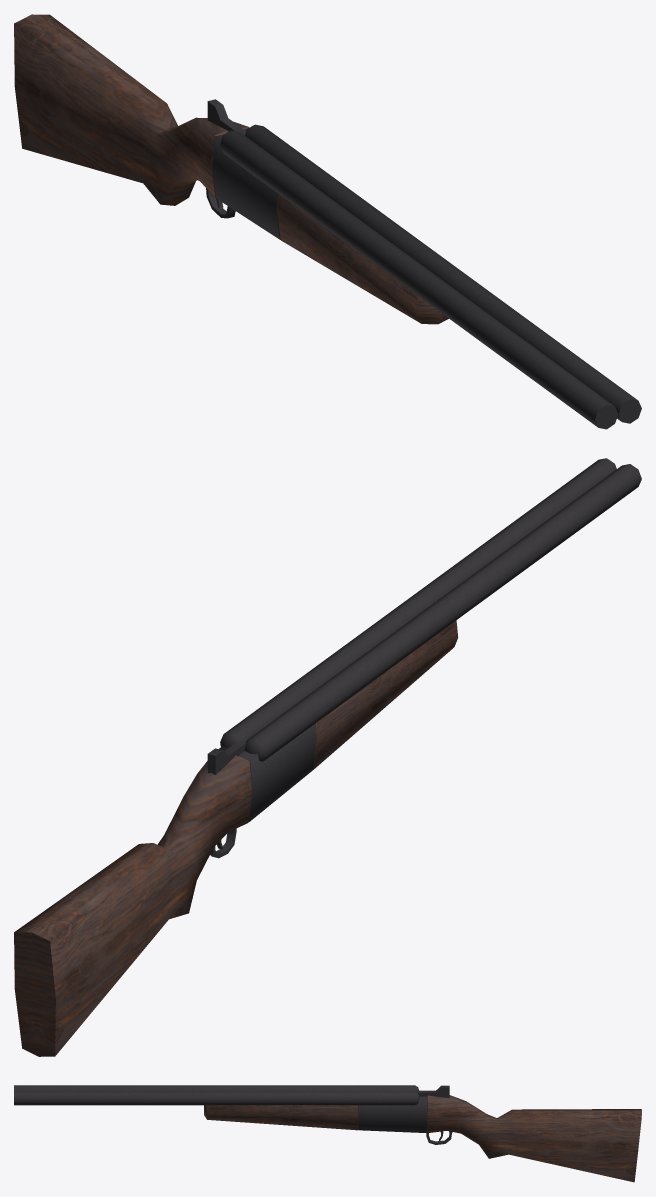
Rendered from 1208双管猎枪.FBX.
3 views of the same model, one above another, from view 1: azimuth 30°, elevation 25°; view 2: azimuth 150°, elevation 25°; view 3: azimuth 270°, elevation 25° (orthographic). The views are drawn at different scales.
Visible parts, largest first — view 1: 1208_DoubleBarrels; view 2: 1208_DoubleBarrels; view 3: 1208_DoubleBarrels.
Boxes of the visible parts, x1=… form: 1208_DoubleBarrels: x1=14, y1=14, x2=641, y2=429; 1208_DoubleBarrels: x1=14, y1=458, x2=641, y2=1056; 1208_DoubleBarrels: x1=14, y1=1085, x2=641, y2=1182.
Size of the model in its own units: 4.81 by 17.16 by 104.
Materials: 1 (1 with a texture image).
